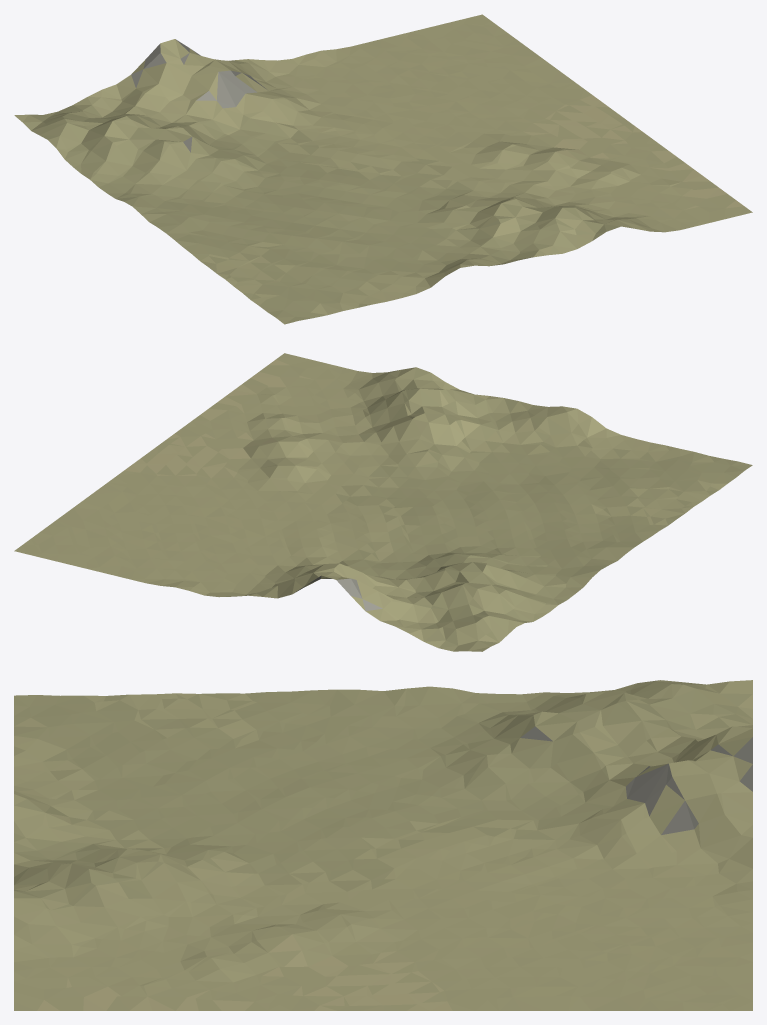
Rendered from Ground_0_2.glb.
3 renders of one model, top to bottom at view 1: azimuth 30°, elevation 25°; view 2: azimuth 150°, elevation 25°; view 3: azimuth 270°, elevation 25°, orthographic. The views are drawn at different scales.
Visible parts, largest first — view 1: Ground_0_2; view 2: Ground_0_2; view 3: Ground_0_2.
Boxes of the visible parts, <box> form: Ground_0_2: <box>14,14,752,324</box>; Ground_0_2: <box>14,353,752,651</box>; Ground_0_2: <box>14,680,752,1010</box>.
Bounding box in the file's own units: 768 × 79.29 × 768.
